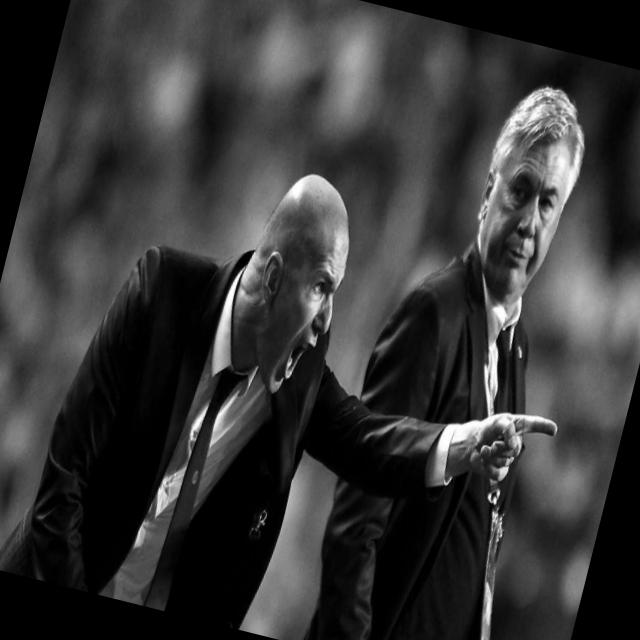face: (215, 161, 372, 412), (446, 70, 606, 316)
